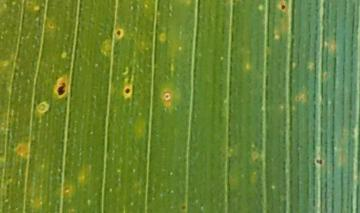tarspot: (53, 74, 70, 101), (121, 84, 134, 99), (113, 28, 125, 41), (314, 157, 327, 167), (278, 1, 288, 13), (161, 92, 173, 100)
